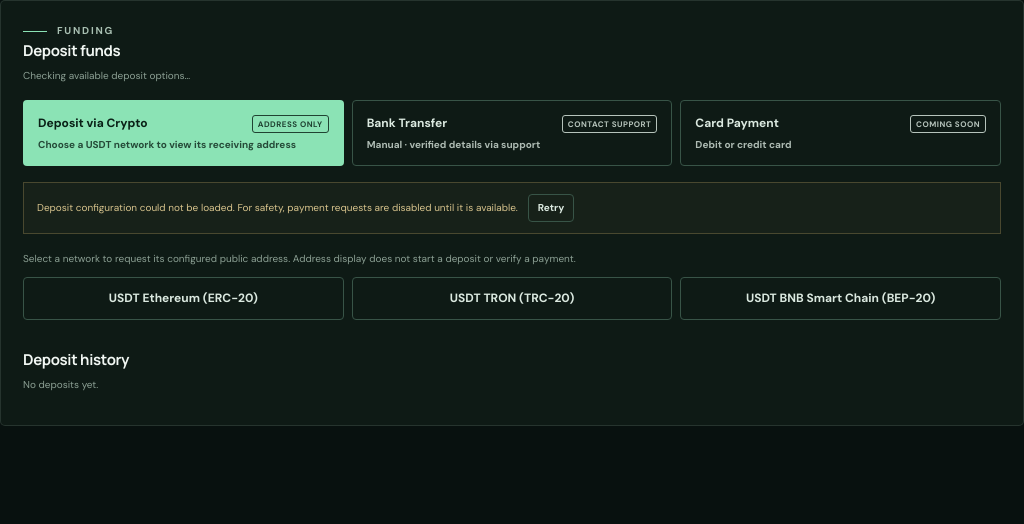
Test case: crypto network selection › rejects malformed USDT TRON (TRC-20) addresses before display or QR generation
Click the button "USDT TRON (TRC-20)" at (512, 299), box [352, 277, 672, 320]
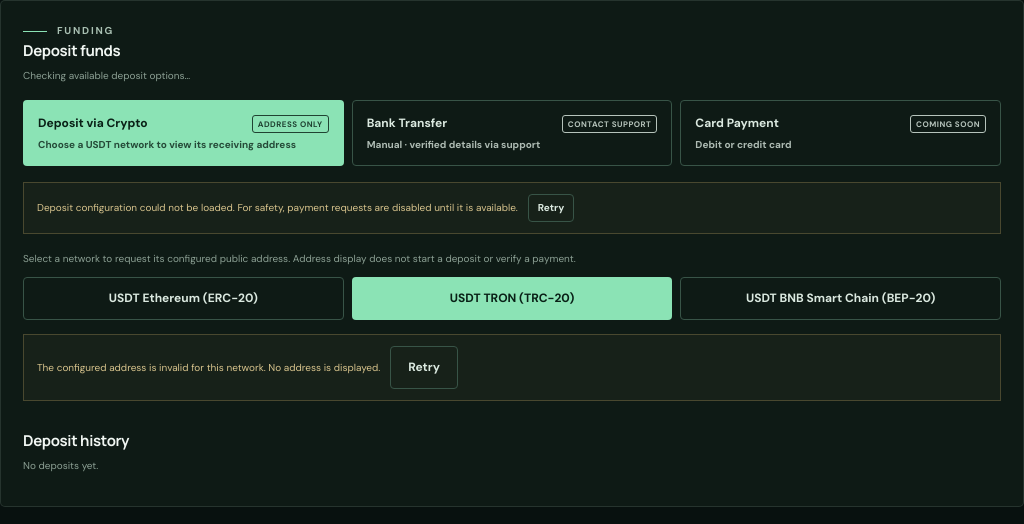
Expected: the text "configured address is invalid for this network" is shown, [37, 361, 380, 374]
